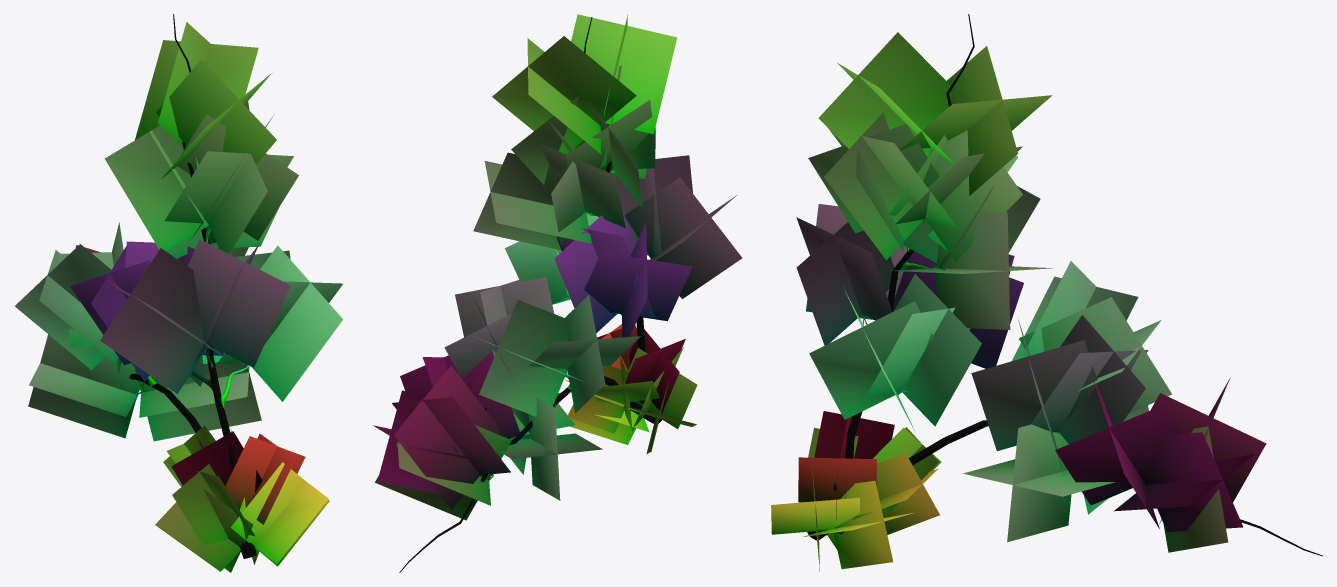
Rendered from M_P12_Tree_9.fbx.
The picture shows the model from 3 angles, left to right: view 1: azimuth 30°, elevation 25°; view 2: azimuth 150°, elevation 25°; view 3: azimuth 270°, elevation 25°; orthographic projection. The views are drawn at different scales.
Visible parts, largest first — view 1: Tree_9; view 2: Tree_9; view 3: Tree_9.
Boxes of the visible parts, x1,y1,x2,y2 form: Tree_9: [15, 14, 342, 572]; Tree_9: [373, 14, 742, 572]; Tree_9: [771, 14, 1322, 571].
Bounding box in the file's own units: 178 × 346 × 316.
